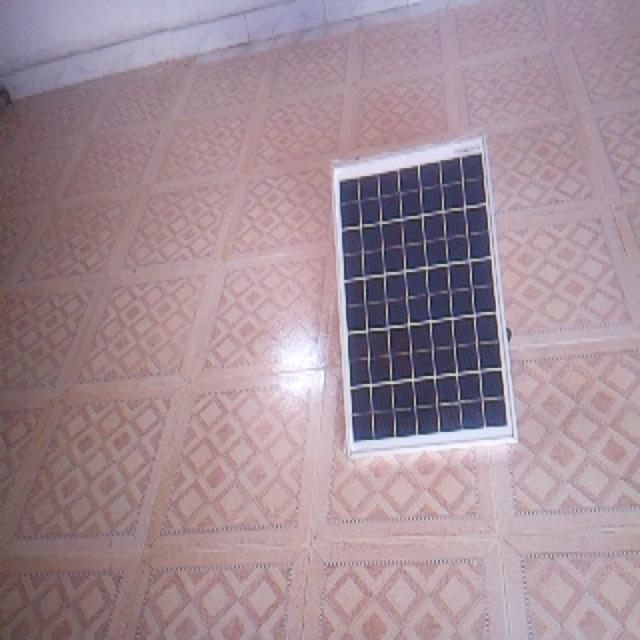Normal Solar Panel: (333, 138, 518, 457)
